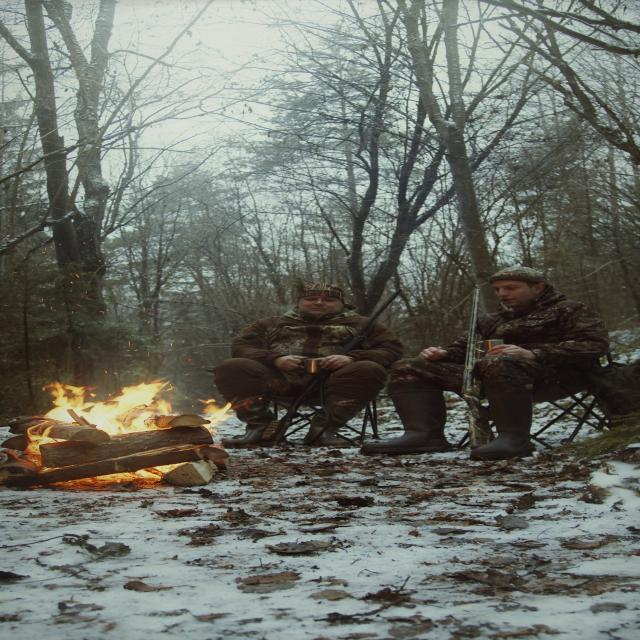Fire: (0, 368, 236, 452)
